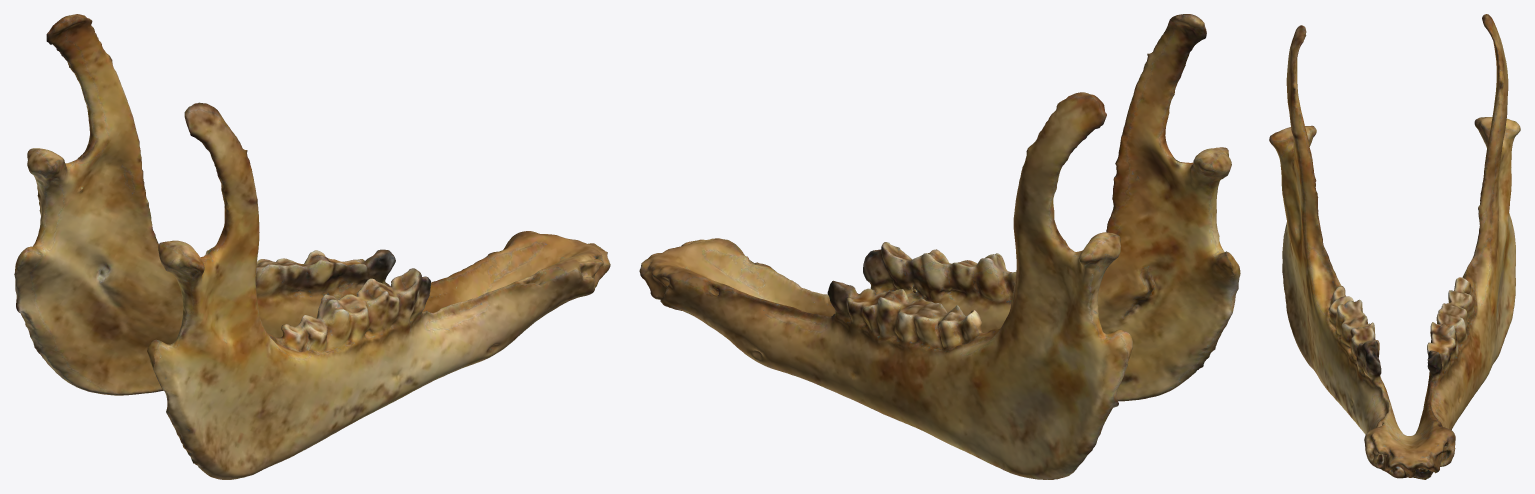
The model's file is mandible.glb.
3 renders of one model, left to right at view 1: azimuth 30°, elevation 25°; view 2: azimuth 150°, elevation 25°; view 3: azimuth 270°, elevation 25°, orthographic. The views are drawn at different scales.
Parts seen in each view (by area): view 1: Alpaca Mandible; view 2: Alpaca Mandible; view 3: Alpaca Mandible.
Part boxes in pixels (x1,y1,x2,y2): Alpaca Mandible: (14,14,610,479); Alpaca Mandible: (639,14,1240,479); Alpaca Mandible: (1269,14,1520,479).
Size of the model in its own units: 0.204 by 0.145 by 0.1022.
Materials: 1 (1 with a texture image).
